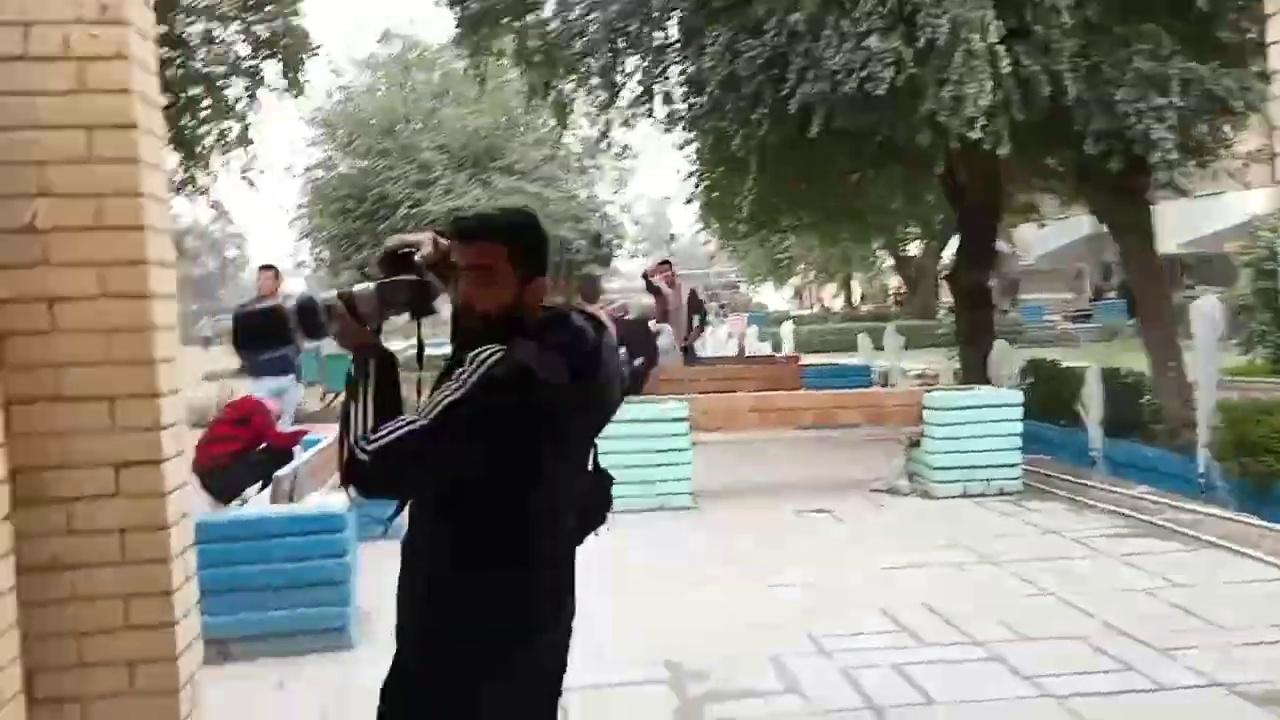fountain: (1016, 291, 1277, 522)
person: (332, 205, 626, 718), (641, 259, 706, 354), (237, 263, 286, 309)
tree: (443, 0, 1272, 457), (669, 0, 1030, 386), (1001, 0, 1271, 451), (288, 24, 619, 301), (152, 0, 320, 203), (1236, 207, 1279, 373)
